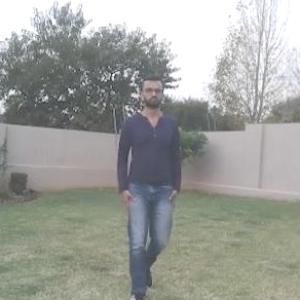follow: (118, 77, 180, 292)
